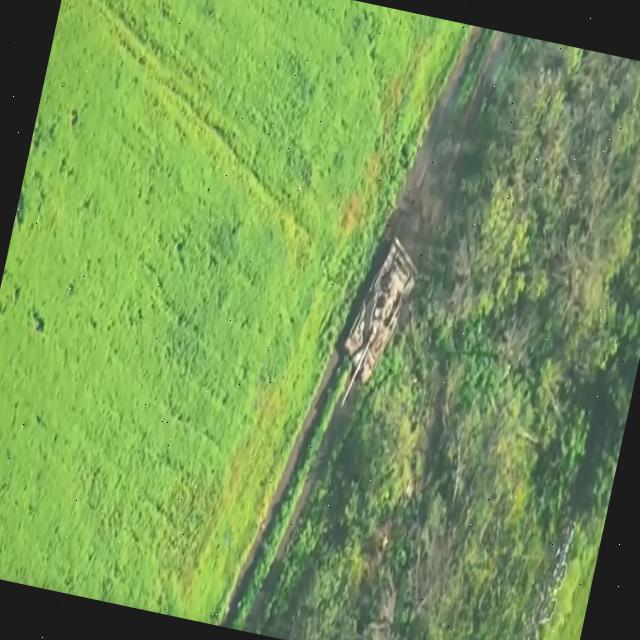MBT: (330, 228, 429, 421)
